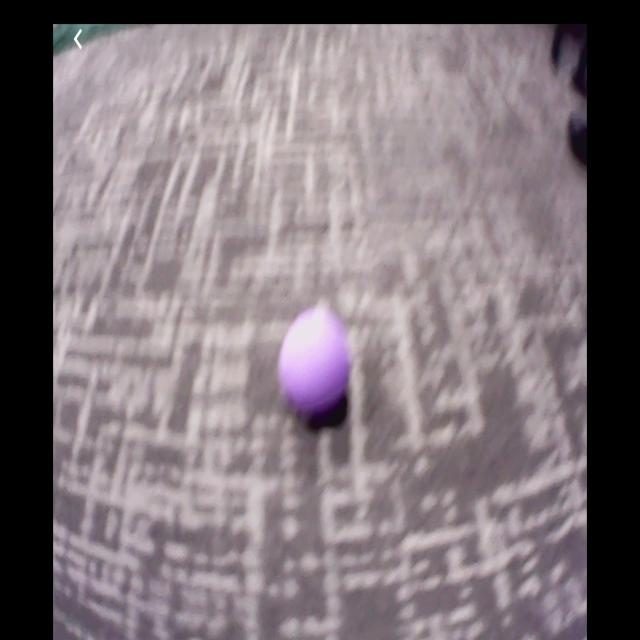ball: (280, 311, 349, 411)
